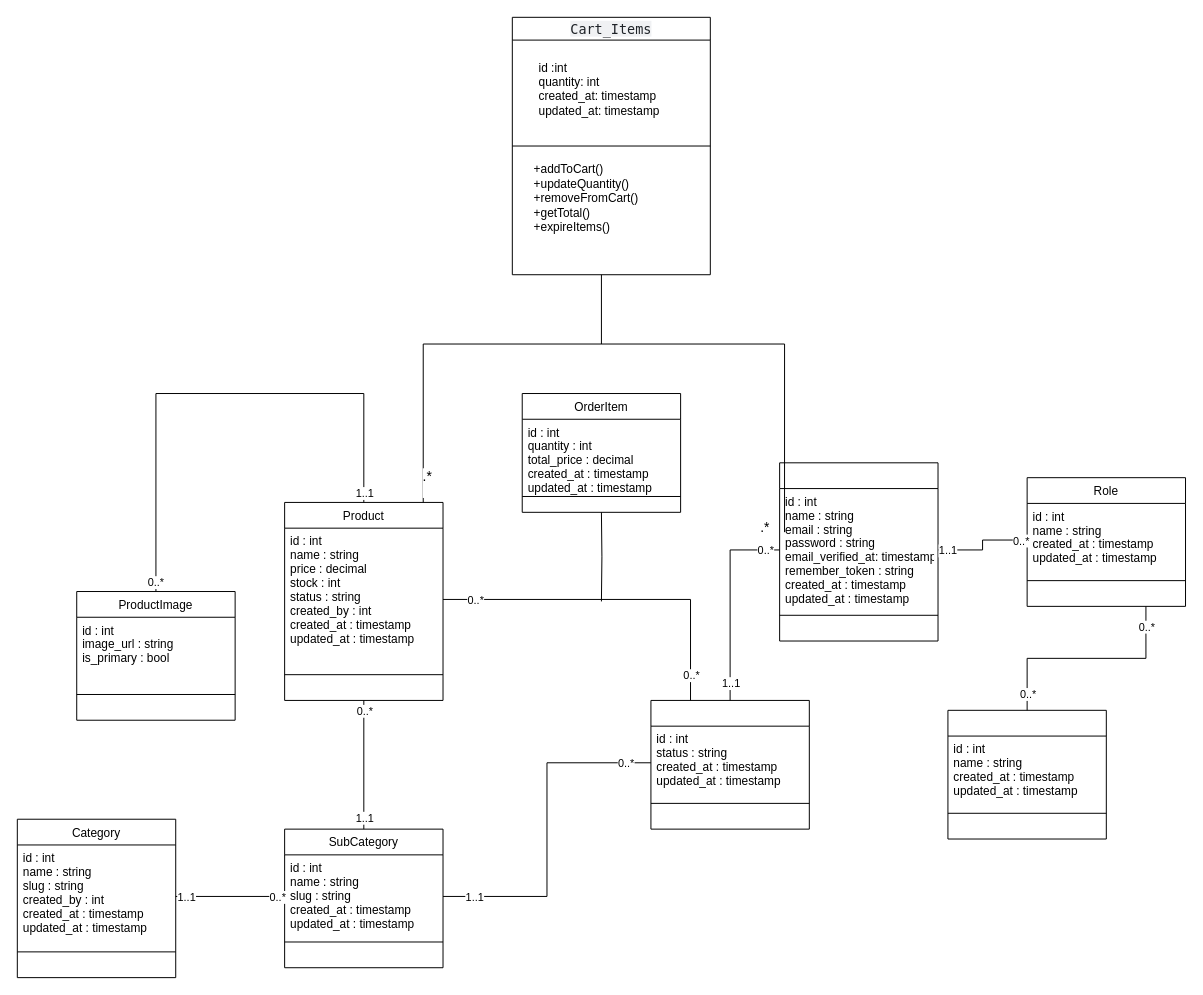
The diagram is 1203 pixels wide and 995 high, and some of its shapes have lost their labels. The shapes that lost their labels are listed below. From the top down, each one's box as (x1, y1, x2, y2) in pixels, then its label:
(779, 462, 938, 641): User
(650, 699, 809, 829): Order
(947, 709, 1106, 839): Permission
